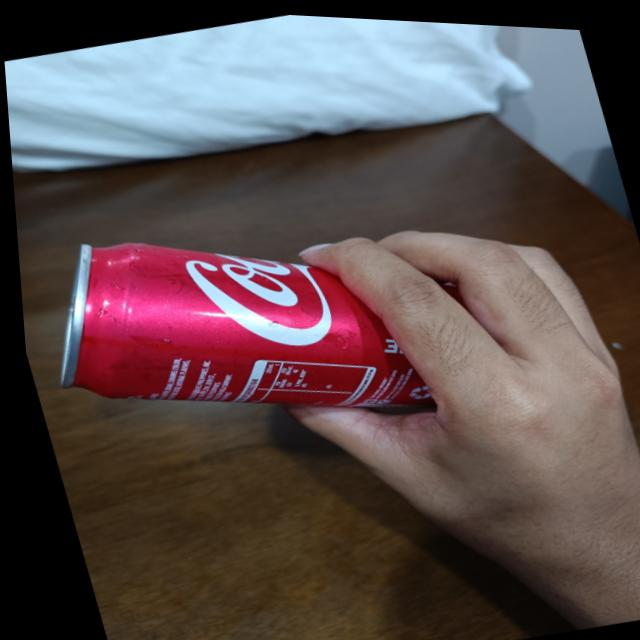coke: (13, 155, 535, 483)
